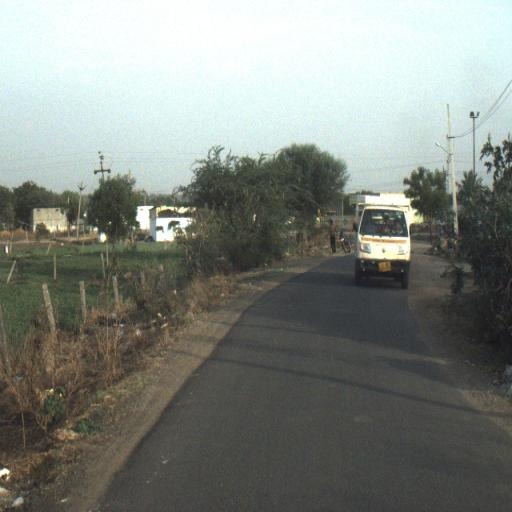street_light_0: (434, 142, 454, 163)
